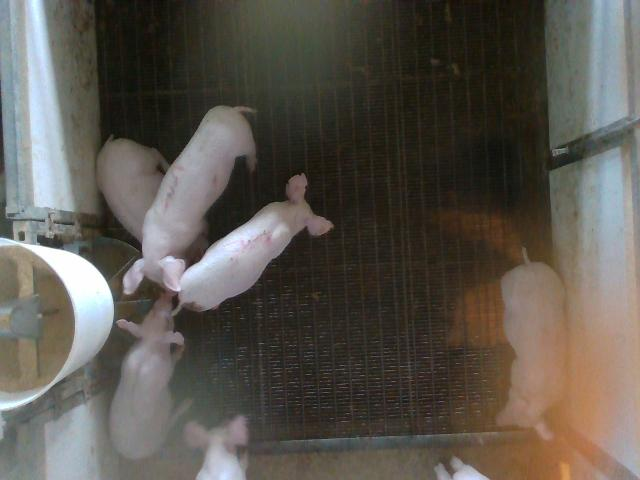pig-3: (124, 105, 255, 293)
pig-5: (175, 174, 334, 314)
